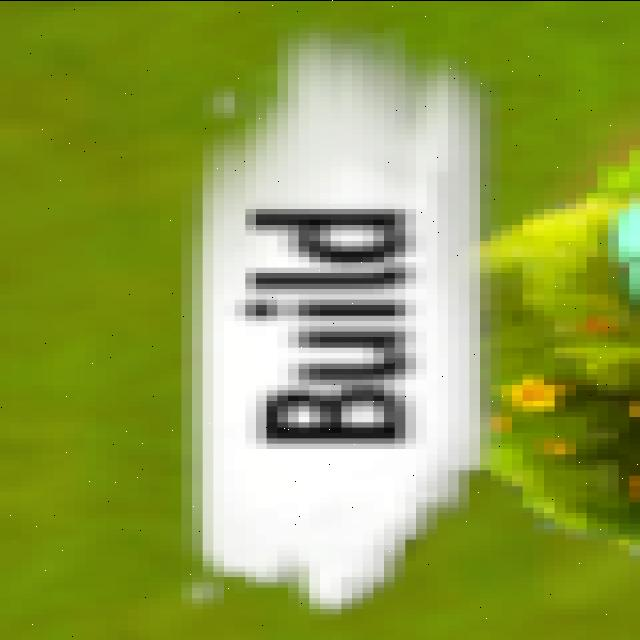build: (215, 198, 445, 457)
